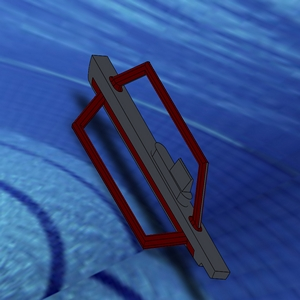submarine: (54, 29, 250, 300)
